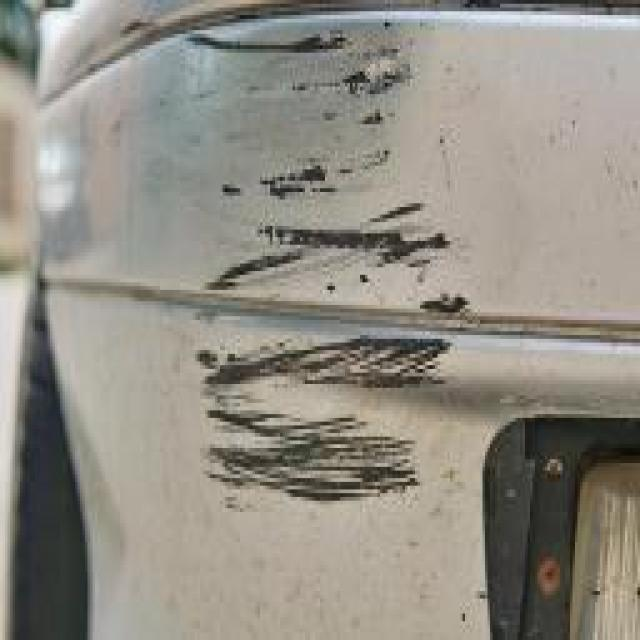Fender: (135, 23, 470, 553)
